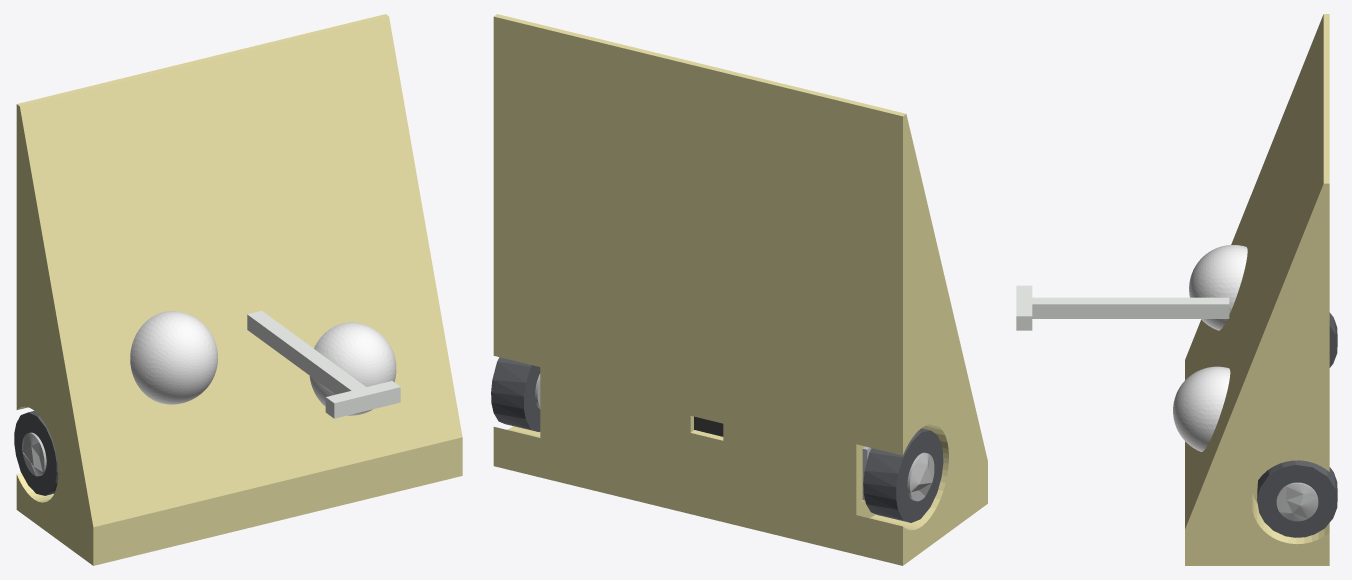
Rendered from my_first_bot.glb.
3 views of the same model, side by side, from view 1: azimuth 30°, elevation 25°; view 2: azimuth 150°, elevation 25°; view 3: azimuth 270°, elevation 25° (orthographic). The views are drawn at different scales.
Visible parts, largest first — view 1: chassis, eye_l, eye_r, post, wheel_r0, post_top, dt_hub_wheel_r0; view 2: chassis, wheel_r0, wheel_l0, dt_hub_wheel_r0; view 3: chassis, post, wheel_l0, eye_r, eye_l, dt_hub_wheel_l0, post_top.
Part boxes in pixels (x1=…): chassis: x1=16, y1=14, x2=462, y2=565; eye_l: x1=130, y1=311, x2=217, y2=404; eye_r: x1=309, y1=322, x2=396, y2=415; post: x1=247, y1=310, x2=367, y2=394; wheel_r0: x1=14, y1=411, x2=58, y2=495; post_top: x1=325, y1=381, x2=400, y2=418; dt_hub_wheel_r0: x1=22, y1=432, x2=46, y2=476; chassis: x1=493, y1=14, x2=987, y2=565; wheel_r0: x1=863, y1=428, x2=943, y2=522; wheel_l0: x1=491, y1=357, x2=540, y2=431; dt_hub_wheel_r0: x1=907, y1=452, x2=934, y2=501; chassis: x1=1185, y1=14, x2=1329, y2=565; post: x1=1028, y1=297, x2=1229, y2=318; wheel_l0: x1=1257, y1=460, x2=1337, y2=537; eye_r: x1=1173, y1=366, x2=1230, y2=451; eye_l: x1=1189, y1=245, x2=1247, y2=330; dt_hub_wheel_l0: x1=1276, y1=482, x2=1318, y2=521; post_top: x1=1016, y1=285, x2=1032, y2=330.
Bounding box in the file's own units: 103 × 105 × 79.99.
